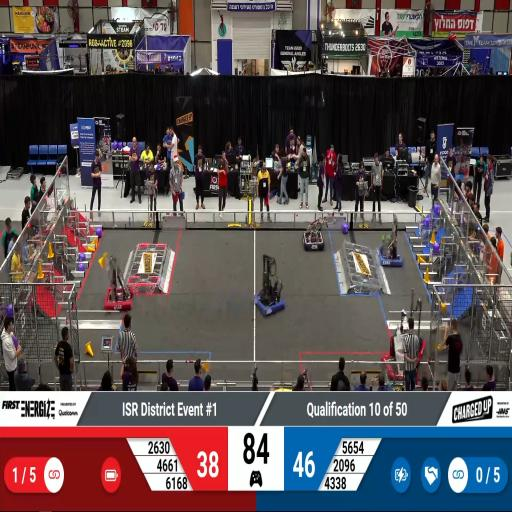robot: (250, 273, 286, 319), (382, 339, 419, 382), (105, 271, 134, 313), (376, 234, 405, 270), (301, 218, 325, 254)
